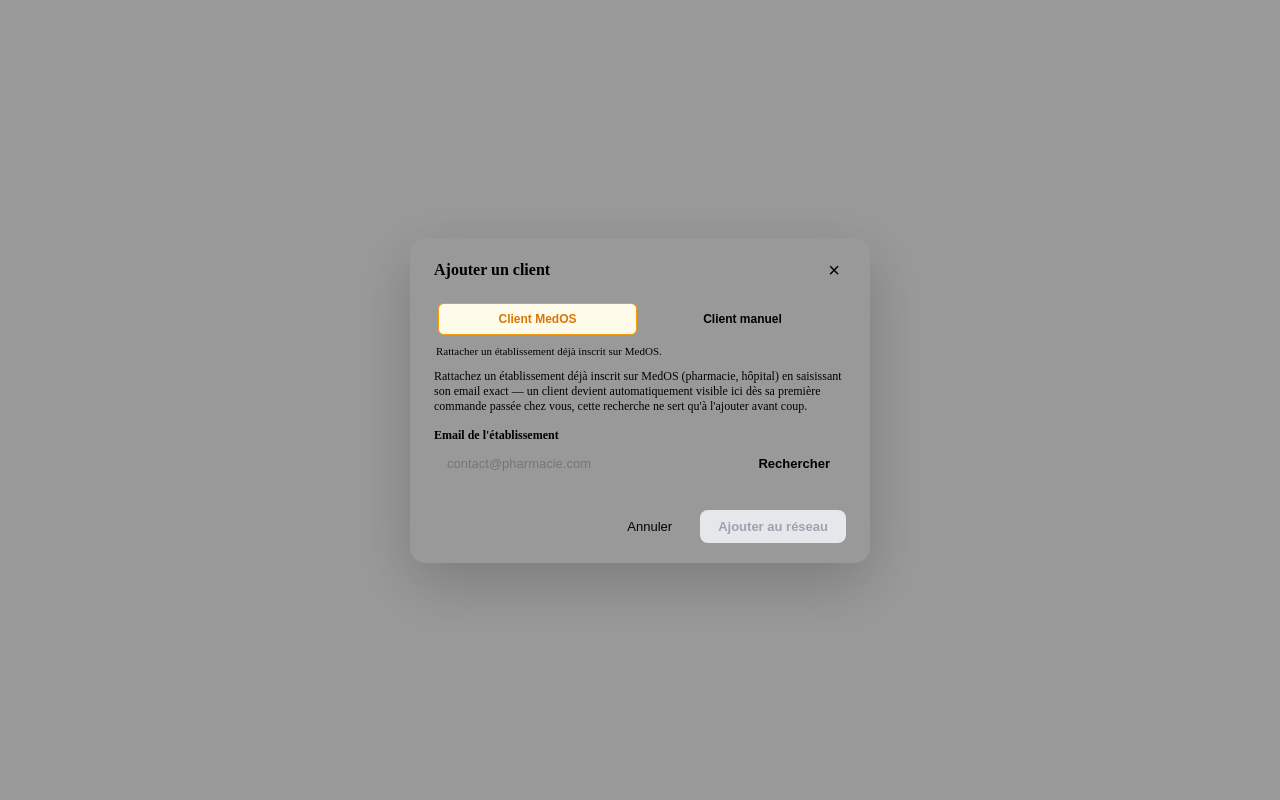
Test: cliquer sur "Client manuel" fait bien apparaître le formulaire manuel (pas seulement visuel, fonctionnel)
Expected: the field with placeholder "contact@pharmacie.com" is shown, left=434, top=446, right=734, bottom=480
Expected: the field with placeholder "Ex: Pharmacie du Marché" is not shown
Step 1. Click the button "Client manuel" → (742, 318), box left=643, top=302, right=842, bottom=334
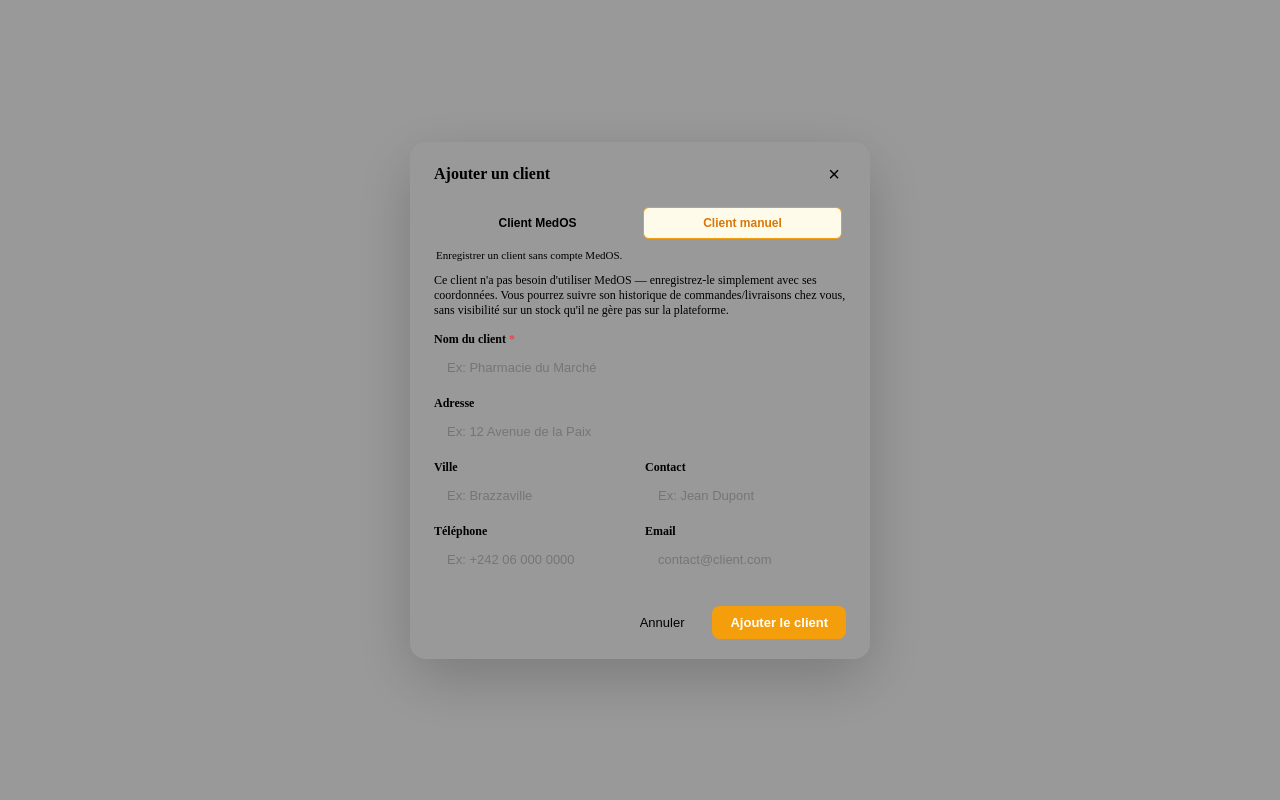
Expected: the field with placeholder "contact@pharmacie.com" is not shown
Now the field with placeholder "Ex: Pharmacie du Marché" is shown, box left=434, top=350, right=846, bottom=384
